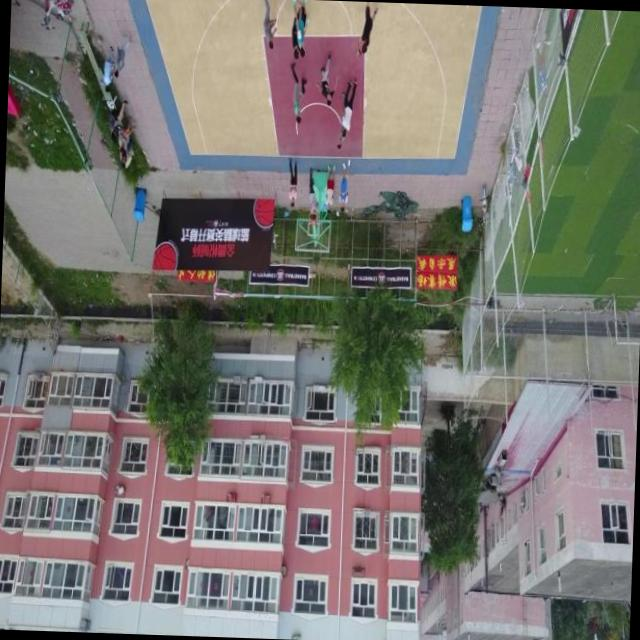person: (314, 49, 339, 107), (355, 1, 379, 61), (286, 60, 308, 125), (339, 80, 358, 139), (289, 0, 308, 58), (260, 0, 279, 51), (306, 167, 321, 222), (336, 158, 351, 212), (285, 156, 299, 208), (324, 163, 336, 215)
